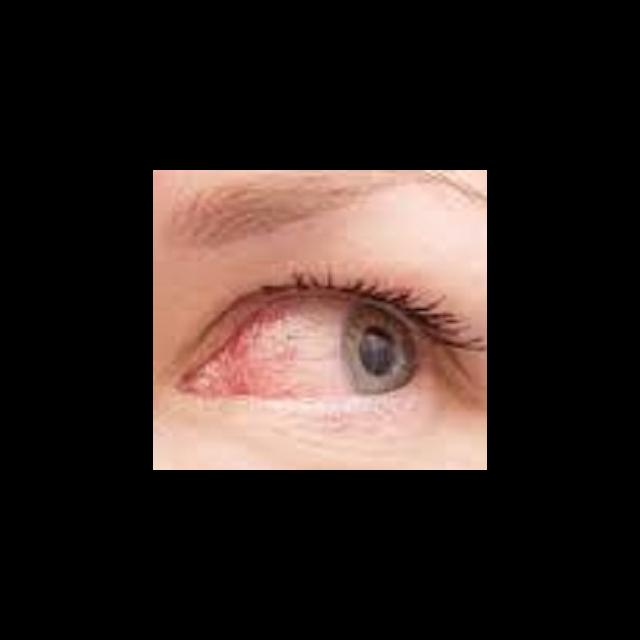eye: (211, 298, 422, 400)
iris: (339, 304, 417, 397)
